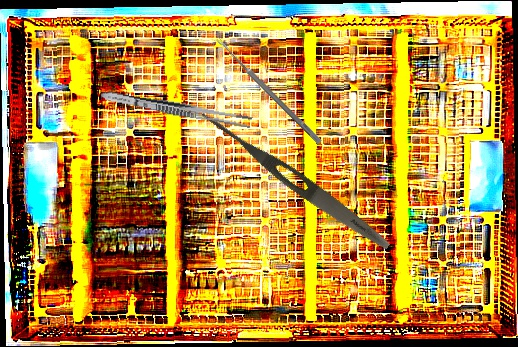Dressing Forceps: (195, 107, 395, 255), (99, 87, 254, 130)
Surgical Spoon: (214, 36, 323, 145)
